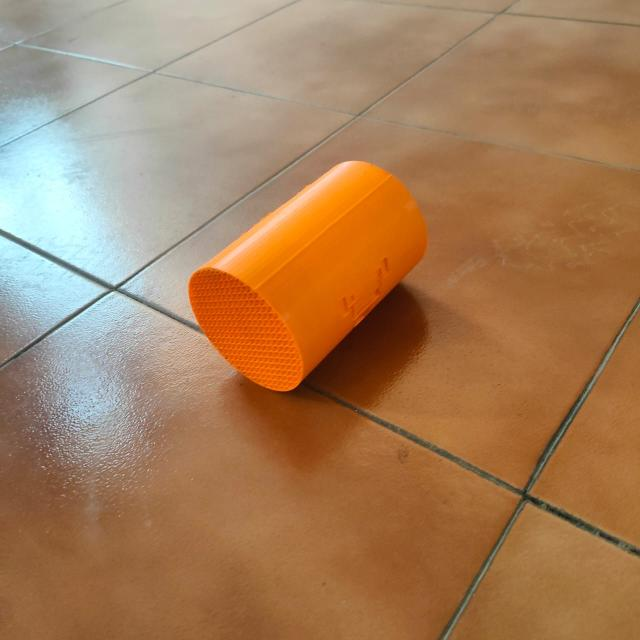Cylinder: (186, 158, 428, 392)
